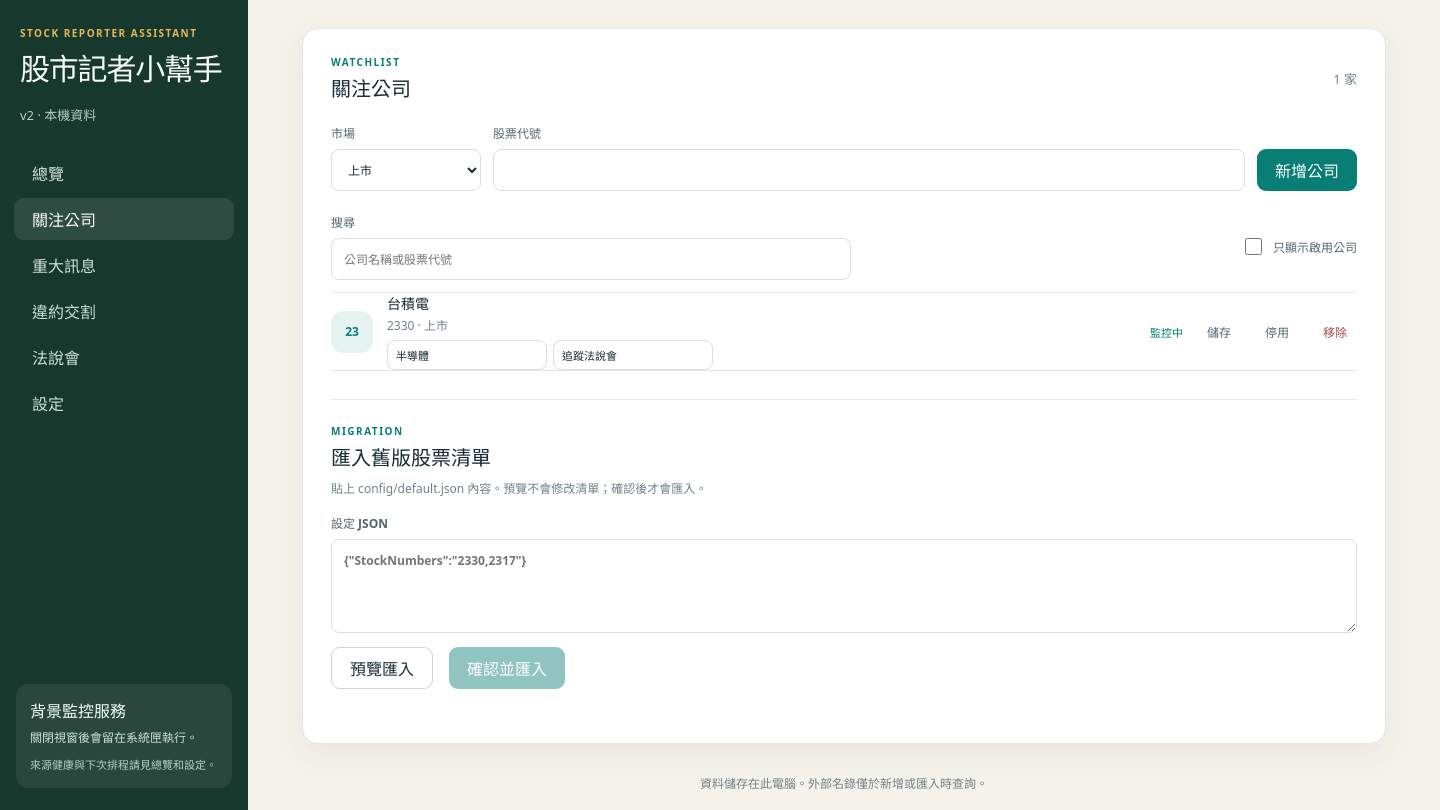
Test: watchlist-management / UI › opens full event details without losing the search and links a correction to its original
Step 1. Click the tab "重大訊息" → (124, 265), box x1=14 y1=244 x2=234 y2=286
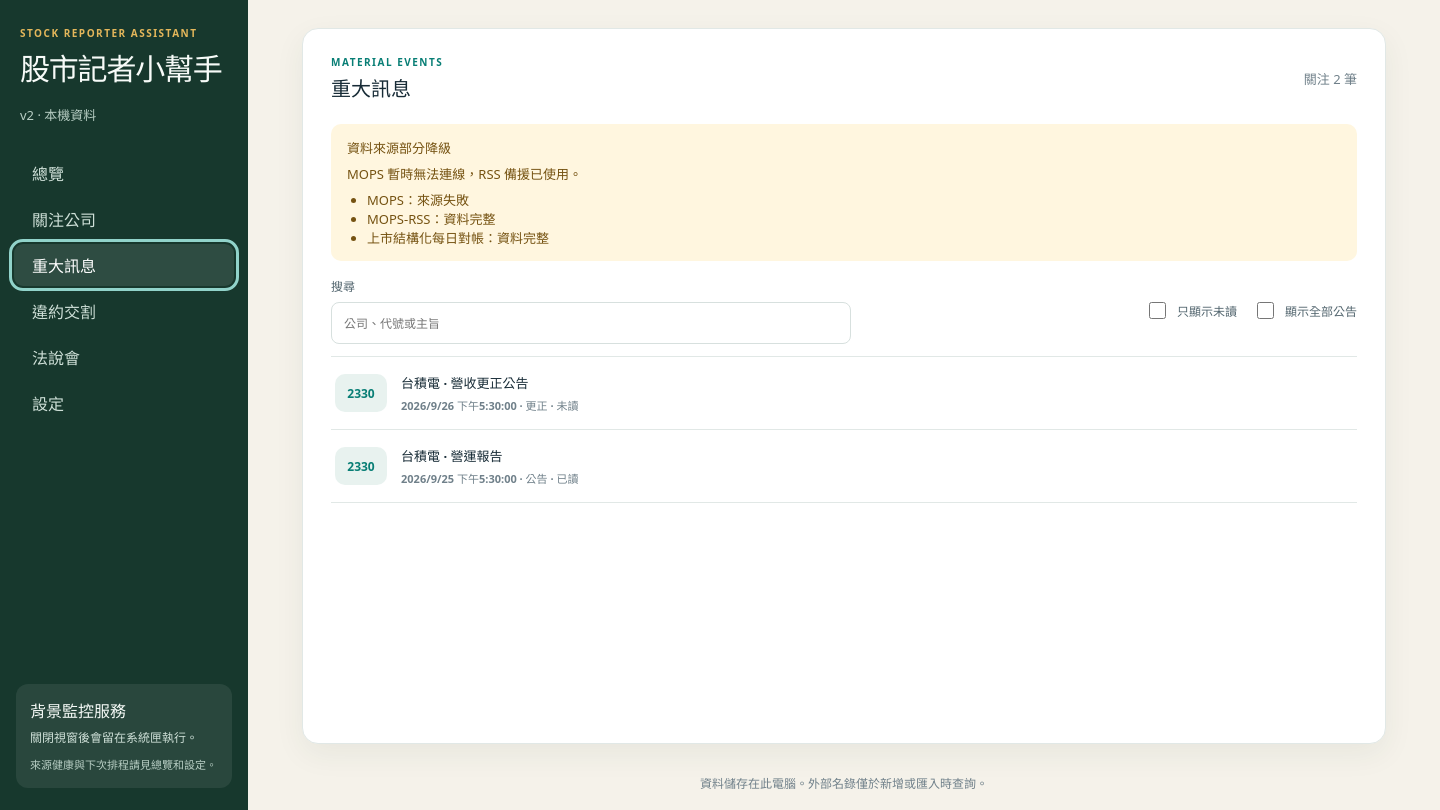
Step 2. Type "更正" into the search field named "搜尋重大訊息" → (591, 323), box x1=331 y1=302 x2=851 y2=344
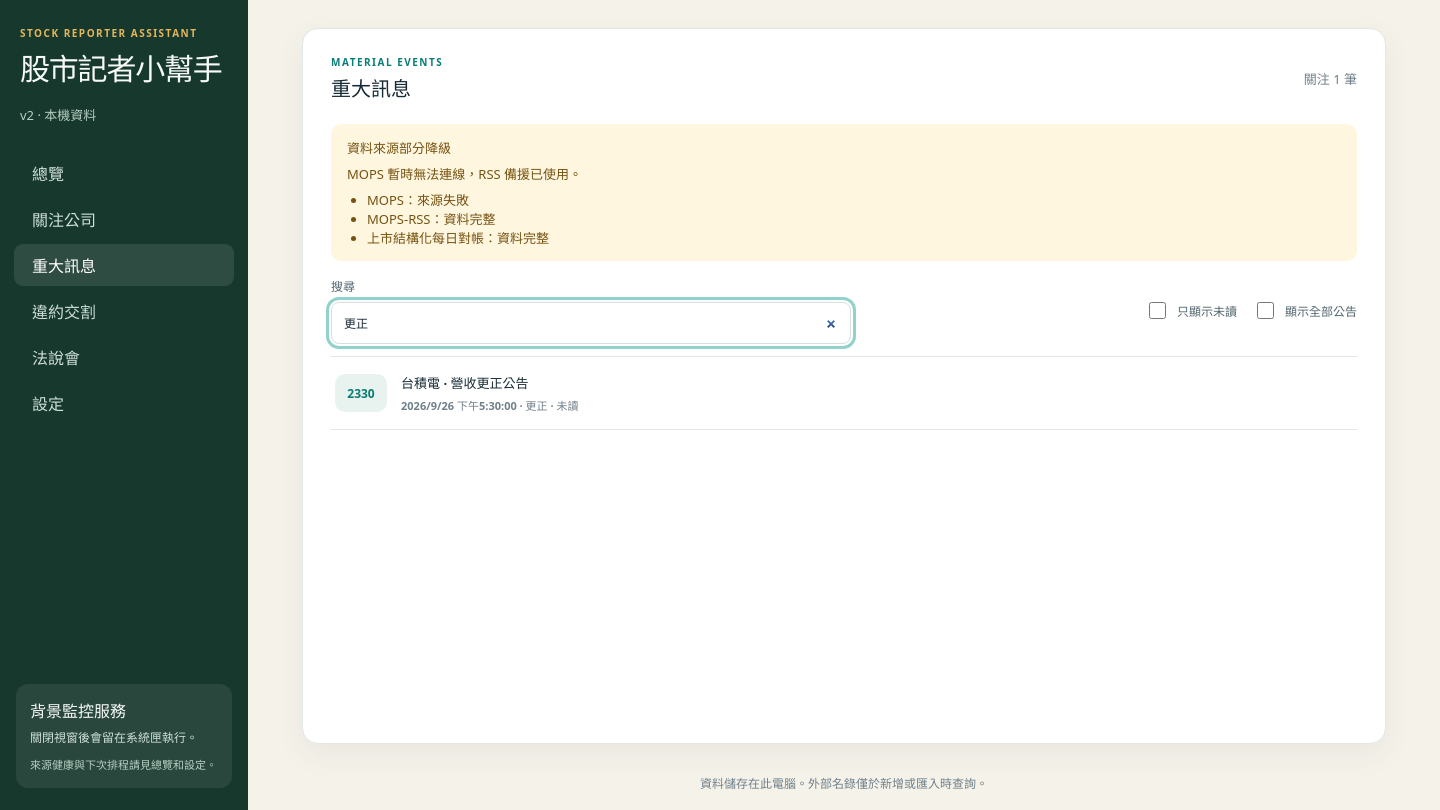
Step 3. Click the button "營收更正公告" → (361, 393), box x1=331 y1=357 x2=1357 y2=429
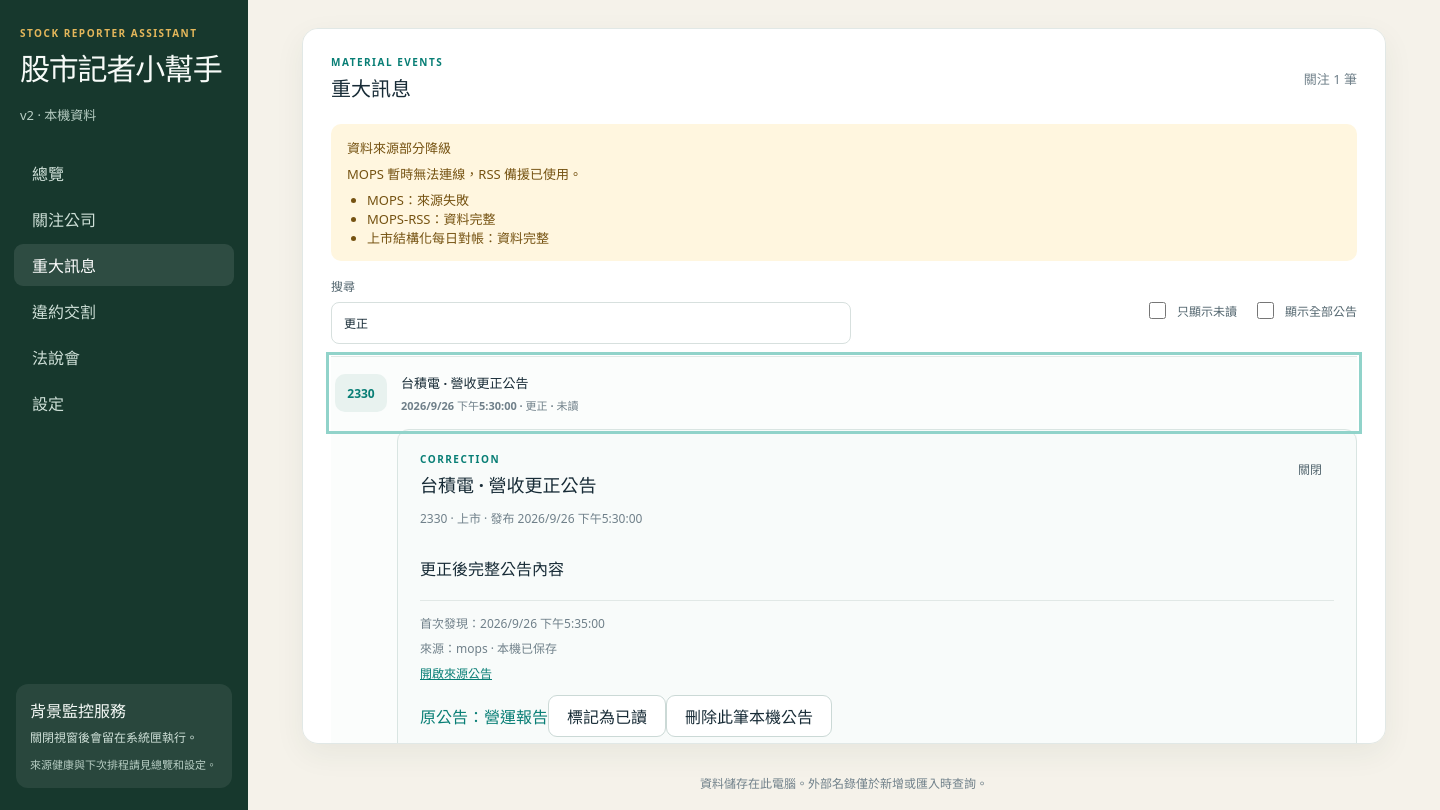
Expected: the element named "重大訊息完整內容" is shown, x1=397 y1=429 x2=1357 y2=744
Expected: the text "更正後完整公告內容" is shown, x1=420 y1=558 x2=564 y2=580
Expected: the button "原公告：營運報告" is shown, x1=420 y1=698 x2=548 y2=734
